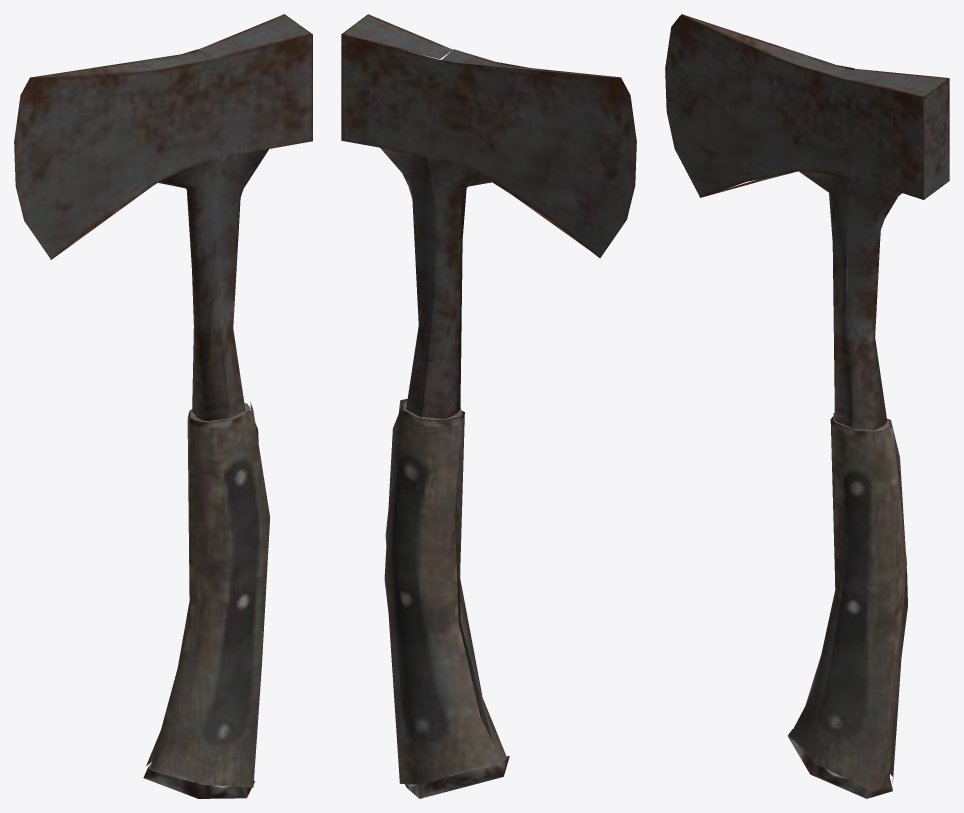
The model's file is hatchet_lod2.glb.
3 views of the same model, side by side, from view 1: azimuth 30°, elevation 25°; view 2: azimuth 150°, elevation 25°; view 3: azimuth 330°, elevation 25° (orthographic). The views are drawn at different scales.
Parts seen in each view (by area): view 1: Hatchet_LOD2_temp; view 2: Hatchet_LOD2_temp; view 3: Hatchet_LOD2_temp.
Boxes of the visible parts, x1,y1,x2,y2 form: Hatchet_LOD2_temp: [14, 14, 312, 798]; Hatchet_LOD2_temp: [341, 14, 636, 798]; Hatchet_LOD2_temp: [665, 14, 949, 798].
Bounding box in the file's own units: 0.253 × 0.6482 × 0.0556.
1 material, 1 textured.
